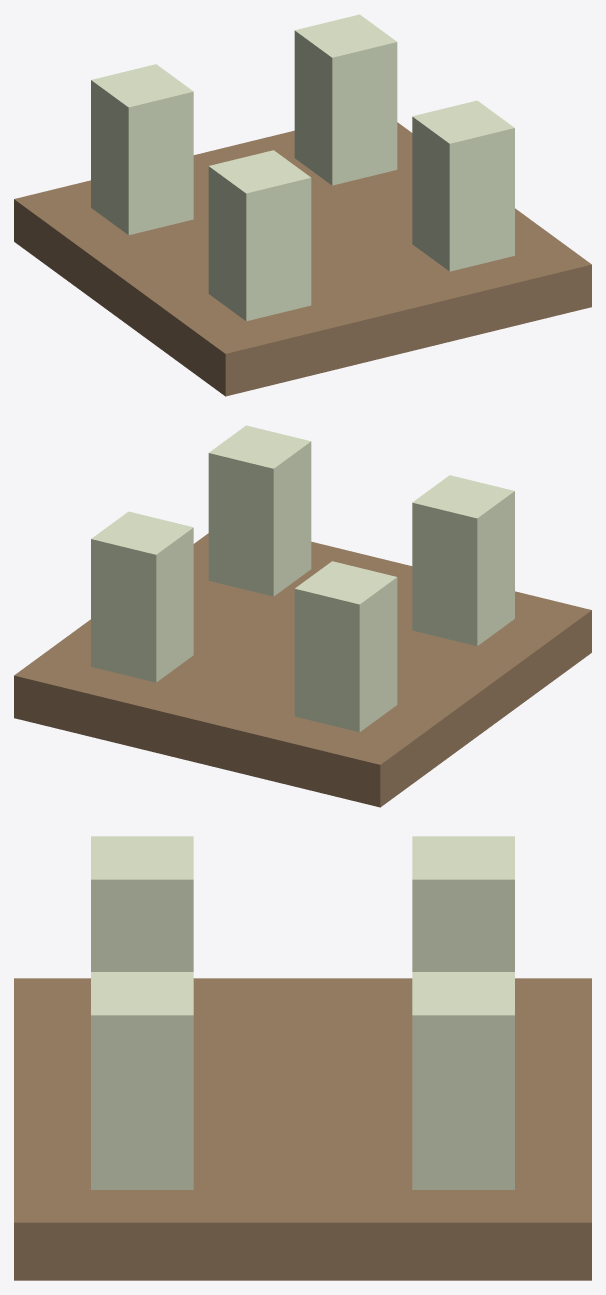
File: Prop_DS_Crop_Spudlet_S2_V3.glb
The picture shows the model from 3 angles, top to bottom: view 1: azimuth 30°, elevation 25°; view 2: azimuth 150°, elevation 25°; view 3: azimuth 270°, elevation 25°; orthographic projection. The views are drawn at different scales.
Parts seen in each view (by area): view 1: Cube, Cube.004, Cube.001, Cube.002, Cube.003; view 2: Cube, Cube.003, Cube.002, Cube.001, Cube.004; view 3: Cube, Cube.003, Cube.004, Cube.001, Cube.002.
Boxes of the visible parts, x1,y1,x2,y2 form: Cube: [14, 122, 591, 396]; Cube.004: [294, 14, 397, 185]; Cube.001: [208, 150, 311, 321]; Cube.002: [91, 64, 193, 235]; Cube.003: [412, 100, 514, 271]; Cube: [14, 533, 591, 807]; Cube.003: [208, 425, 311, 596]; Cube.002: [294, 561, 397, 732]; Cube.001: [412, 475, 514, 646]; Cube.004: [91, 511, 193, 682]; Cube: [14, 978, 591, 1280]; Cube.003: [91, 972, 193, 1189]; Cube.004: [412, 972, 514, 1189]; Cube.001: [91, 836, 193, 971]; Cube.002: [412, 836, 514, 971].
Size of the model in its own units: 0.9 by 0.4 by 0.9.
